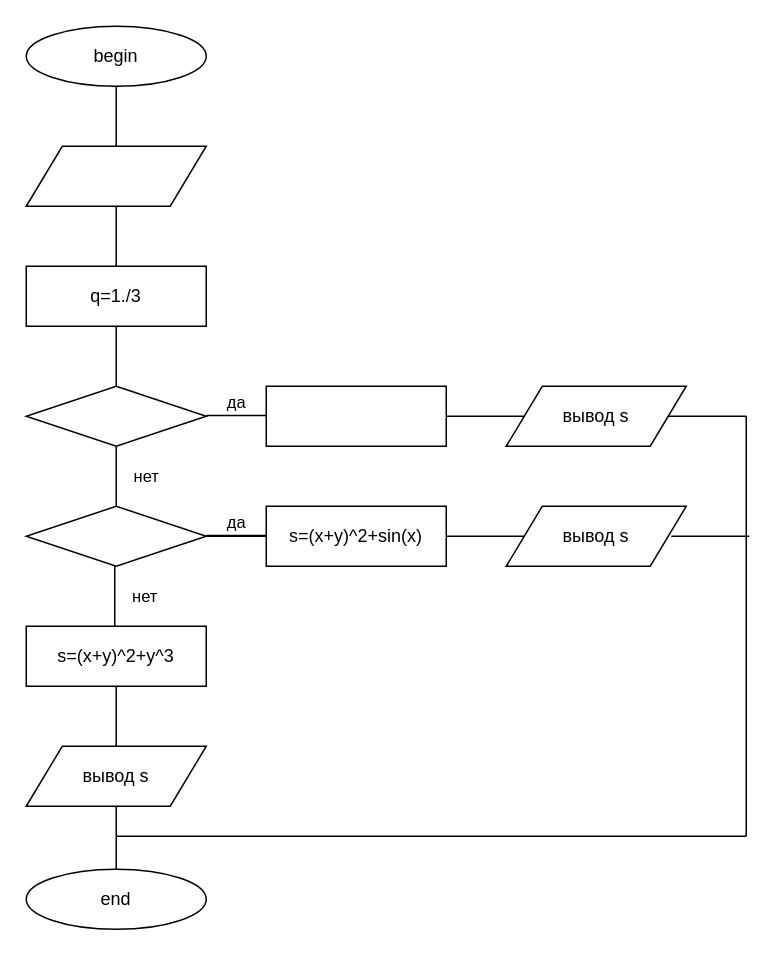
Some shapes in this 777 by 956 pixel diagram are drawn without their labels. The box of each missing label's shape, as (x1, y1, x2, y2) in pixels:
s=(x+y)^2-|x|^(1/3): (265, 385, 446, 446)
xy<0: (25, 505, 206, 566)
xy>o: (25, 385, 206, 446)
ввод данных: (25, 145, 206, 206)
